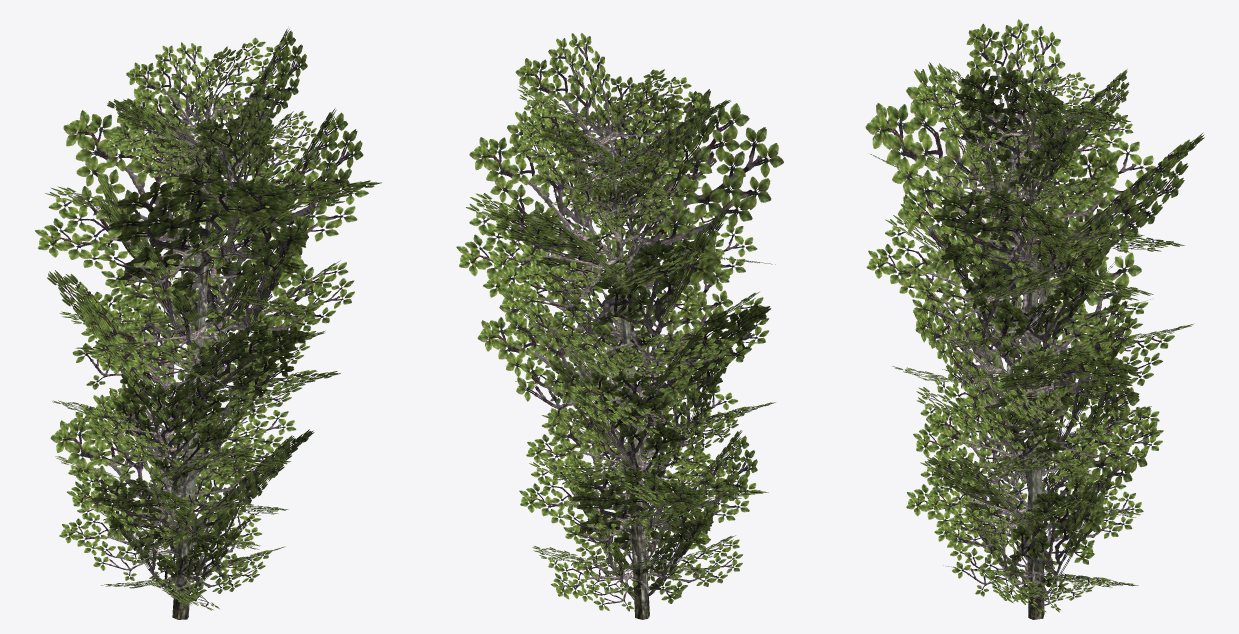
File: flora_tree_temperate_v3.glb
3 views of the same model, side by side, from view 1: azimuth 30°, elevation 25°; view 2: azimuth 150°, elevation 25°; view 3: azimuth 270°, elevation 25° (orthographic). The views are drawn at different scales.
Parts seen in each view (by area): view 1: flora_tree_temperate_v3_part0; view 2: flora_tree_temperate_v3_part0; view 3: flora_tree_temperate_v3_part0.
Part boxes in pixels (x1,y1,x2,y2): flora_tree_temperate_v3_part0: [35, 29, 381, 619]; flora_tree_temperate_v3_part0: [456, 33, 783, 619]; flora_tree_temperate_v3_part0: [865, 19, 1204, 619].
Bounding box in the file's own units: 9.1 × 13.57 × 7.87.
1 material, 1 textured.
